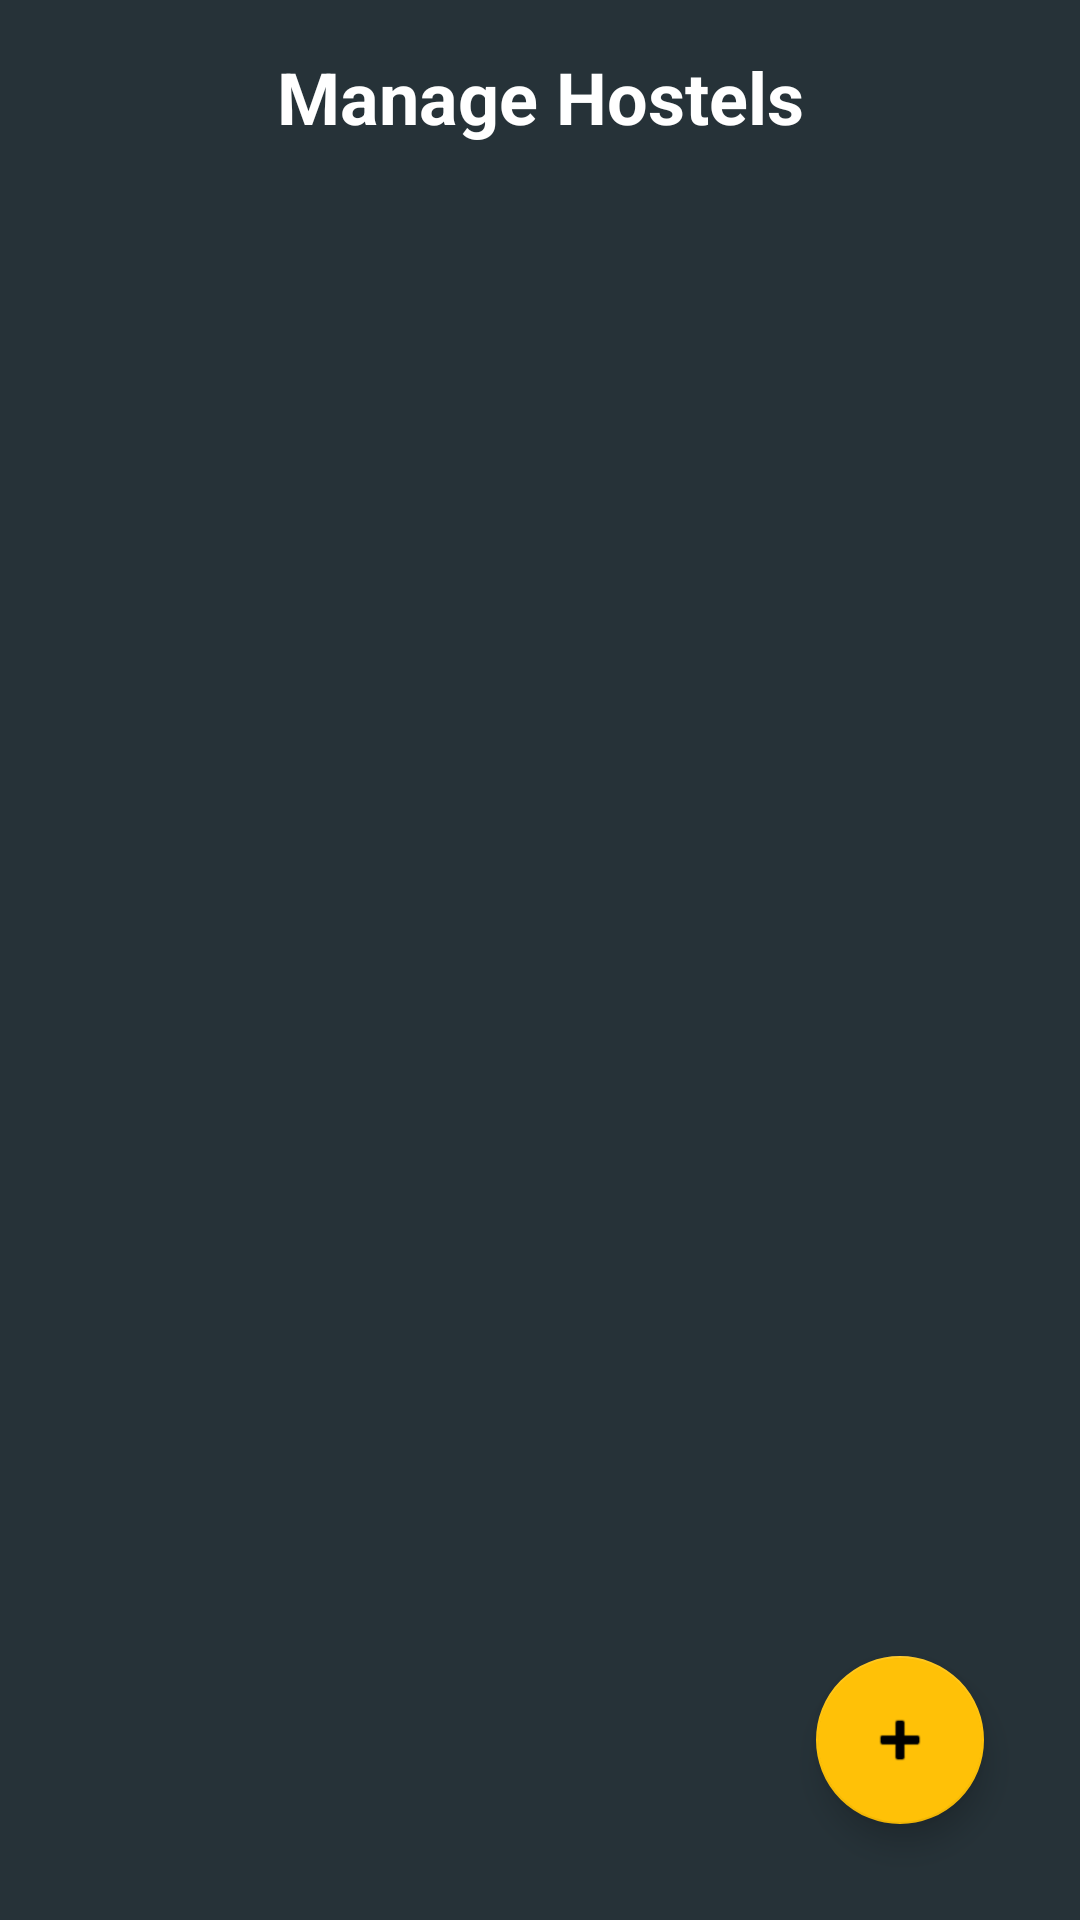

Screen size 1080*1920. Icon name, then its box in pixels as (x1, y1, x2, y2):
Add Hostel: (816, 1656, 984, 1824)
